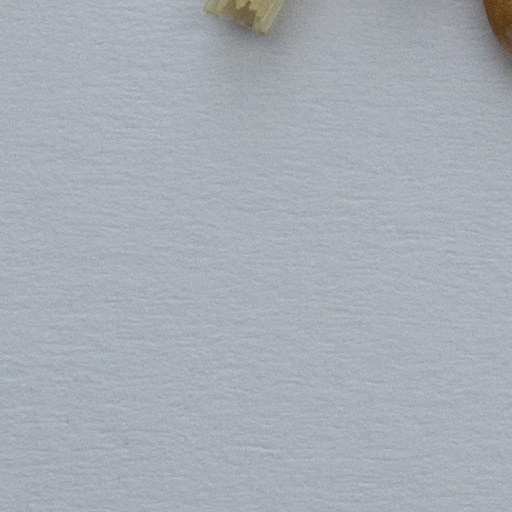Peel-poly: (205, 0, 284, 34)
